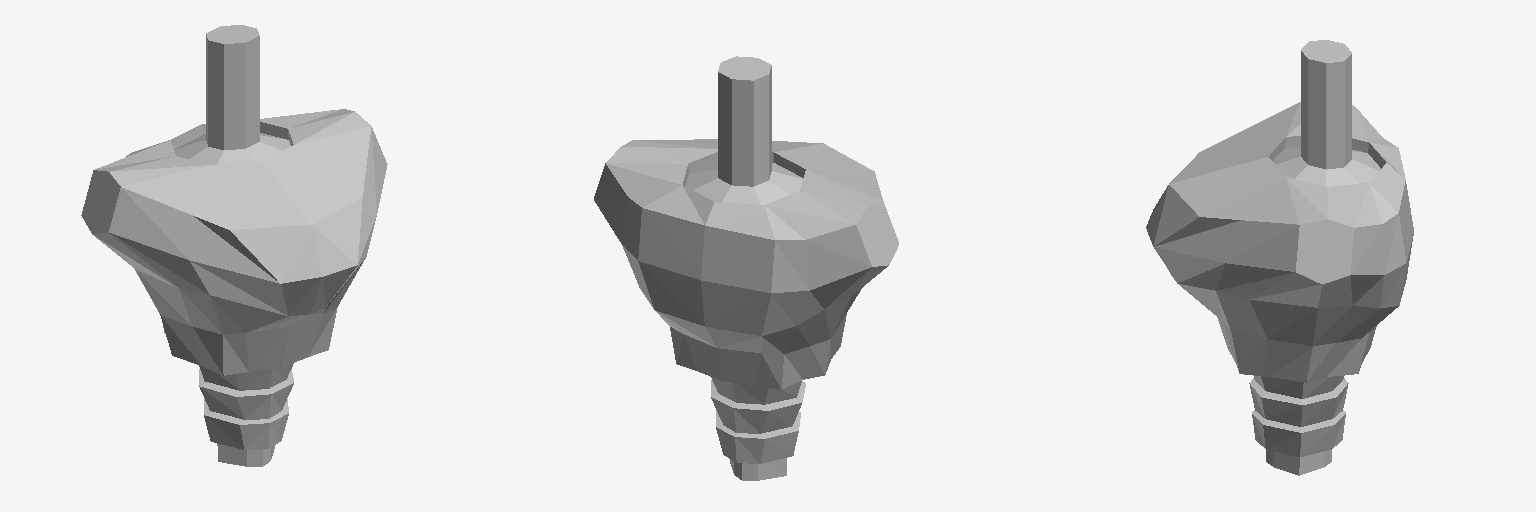
File: Top-Torso.obj
3 renders of one model, left to right at view 1: azimuth 30°, elevation 25°; view 2: azimuth 150°, elevation 25°; view 3: azimuth 270°, elevation 25°, orthographic.
Parts seen in each view (by area): view 1: Top-Torso_R02.008; view 2: Top-Torso_R02.008; view 3: Top-Torso_R02.008.
Part boxes in pixels (bbox=[...]): Top-Torso_R02.008: bbox=[81, 25, 387, 466]; Top-Torso_R02.008: bbox=[594, 56, 898, 480]; Top-Torso_R02.008: bbox=[1146, 40, 1413, 475].
Bounding box in the file's own units: 3.26 × 4.49 × 2.66.